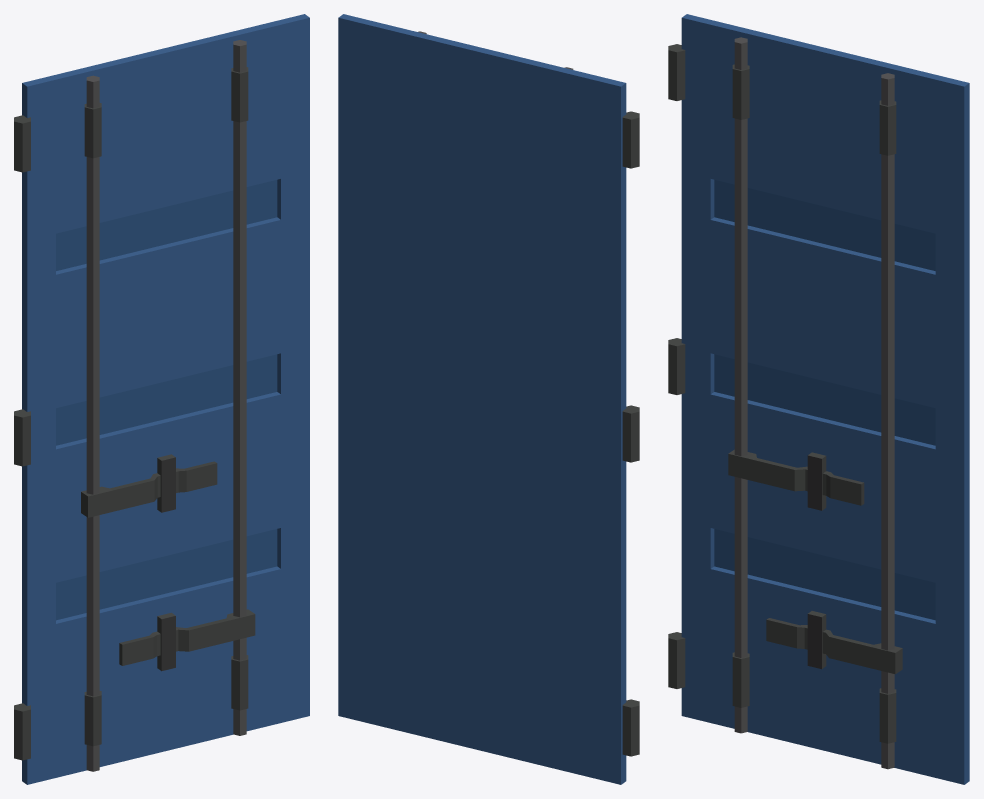
The model's file is SM_Props_ShippingContainer_Door3_L.glb.
The picture shows the model from 3 angles, left to right: view 1: azimuth 30°, elevation 25°; view 2: azimuth 150°, elevation 25°; view 3: azimuth 330°, elevation 25°; orthographic projection.
Visible parts, largest first — view 1: SM_Props_ShippingContainer_Door3_L; view 2: SM_Props_ShippingContainer_Door3_L; view 3: SM_Props_ShippingContainer_Door3_L.
Part boxes in pixels (box(x1,y1,x2,y2)): SM_Props_ShippingContainer_Door3_L: box(14, 14, 309, 784); SM_Props_ShippingContainer_Door3_L: box(338, 14, 639, 784); SM_Props_ShippingContainer_Door3_L: box(668, 14, 969, 784).
Bounding box in the file's own units: 1.17 × 2.63 × 0.0859.
1 material, 1 textured.
